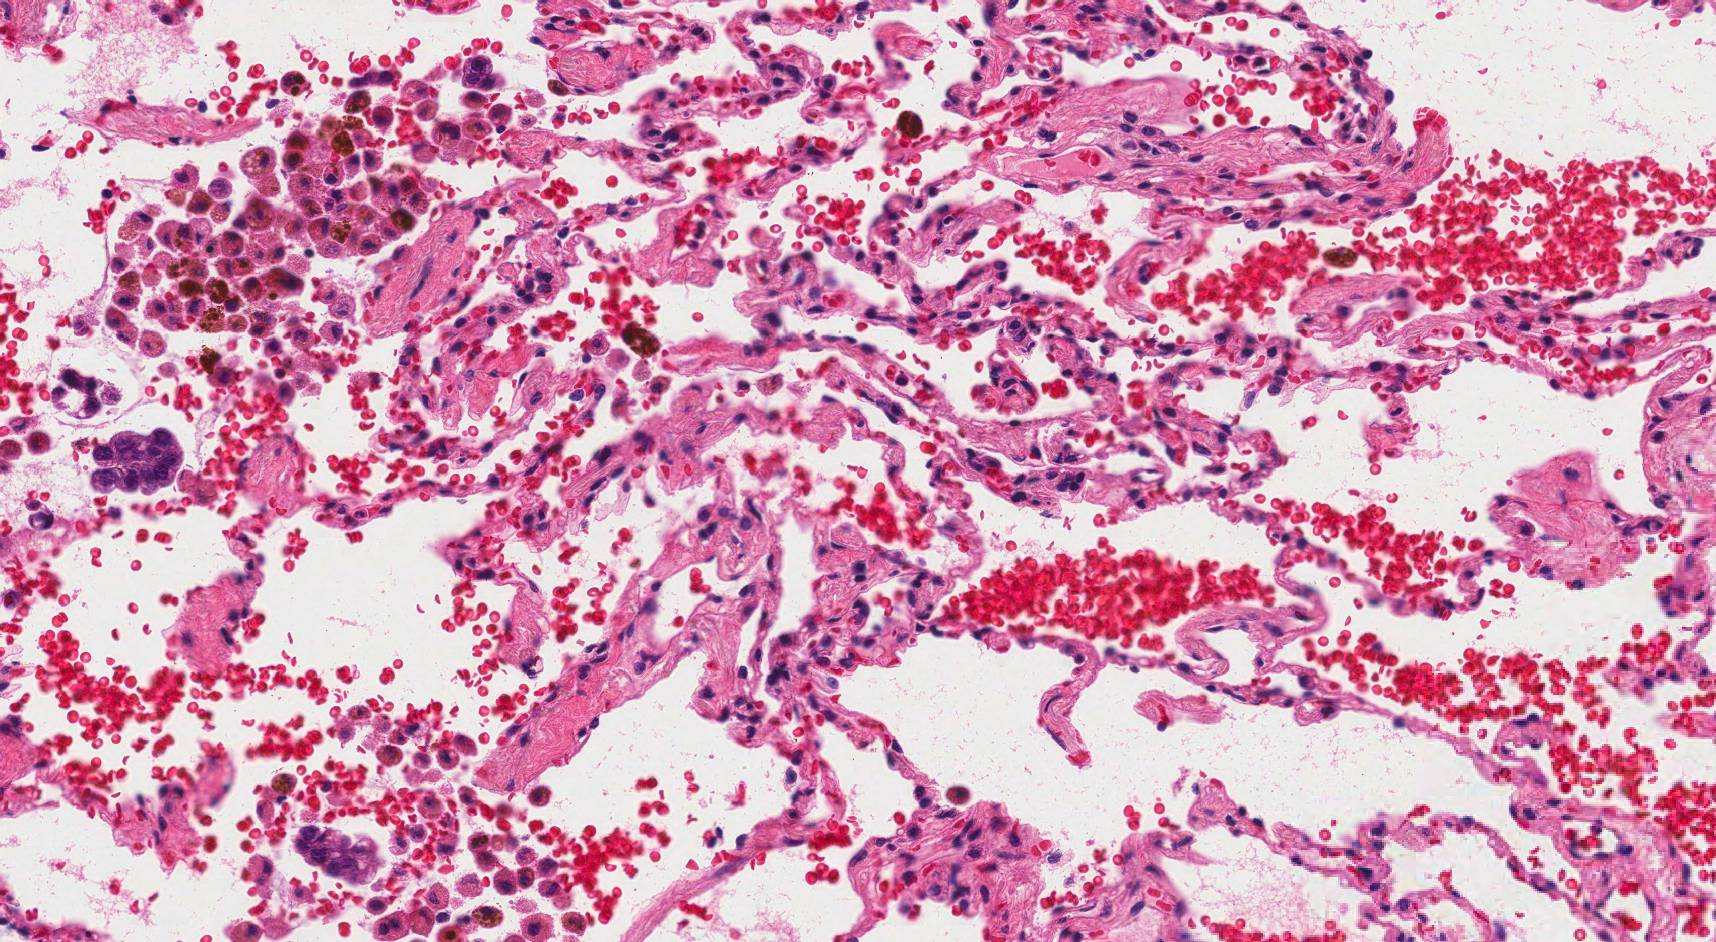stas: (91, 427, 185, 493), (291, 824, 382, 884)
